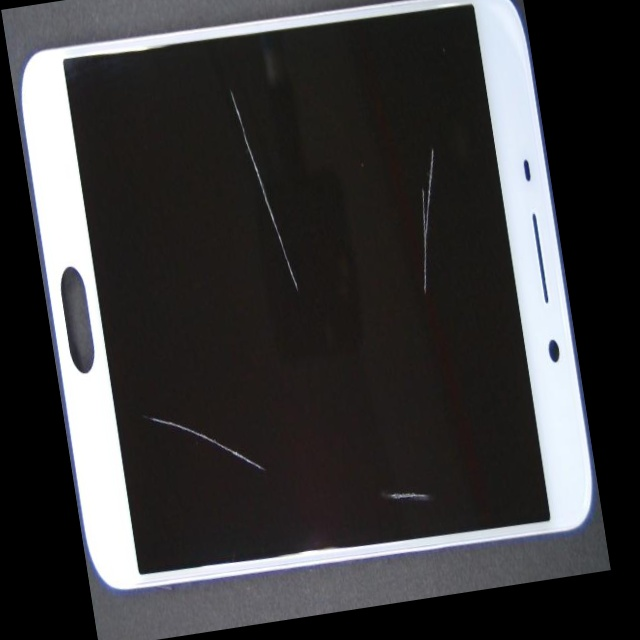scratch: (248, 201, 606, 617), (227, 0, 561, 289), (166, 149, 446, 419), (200, 250, 338, 625)
